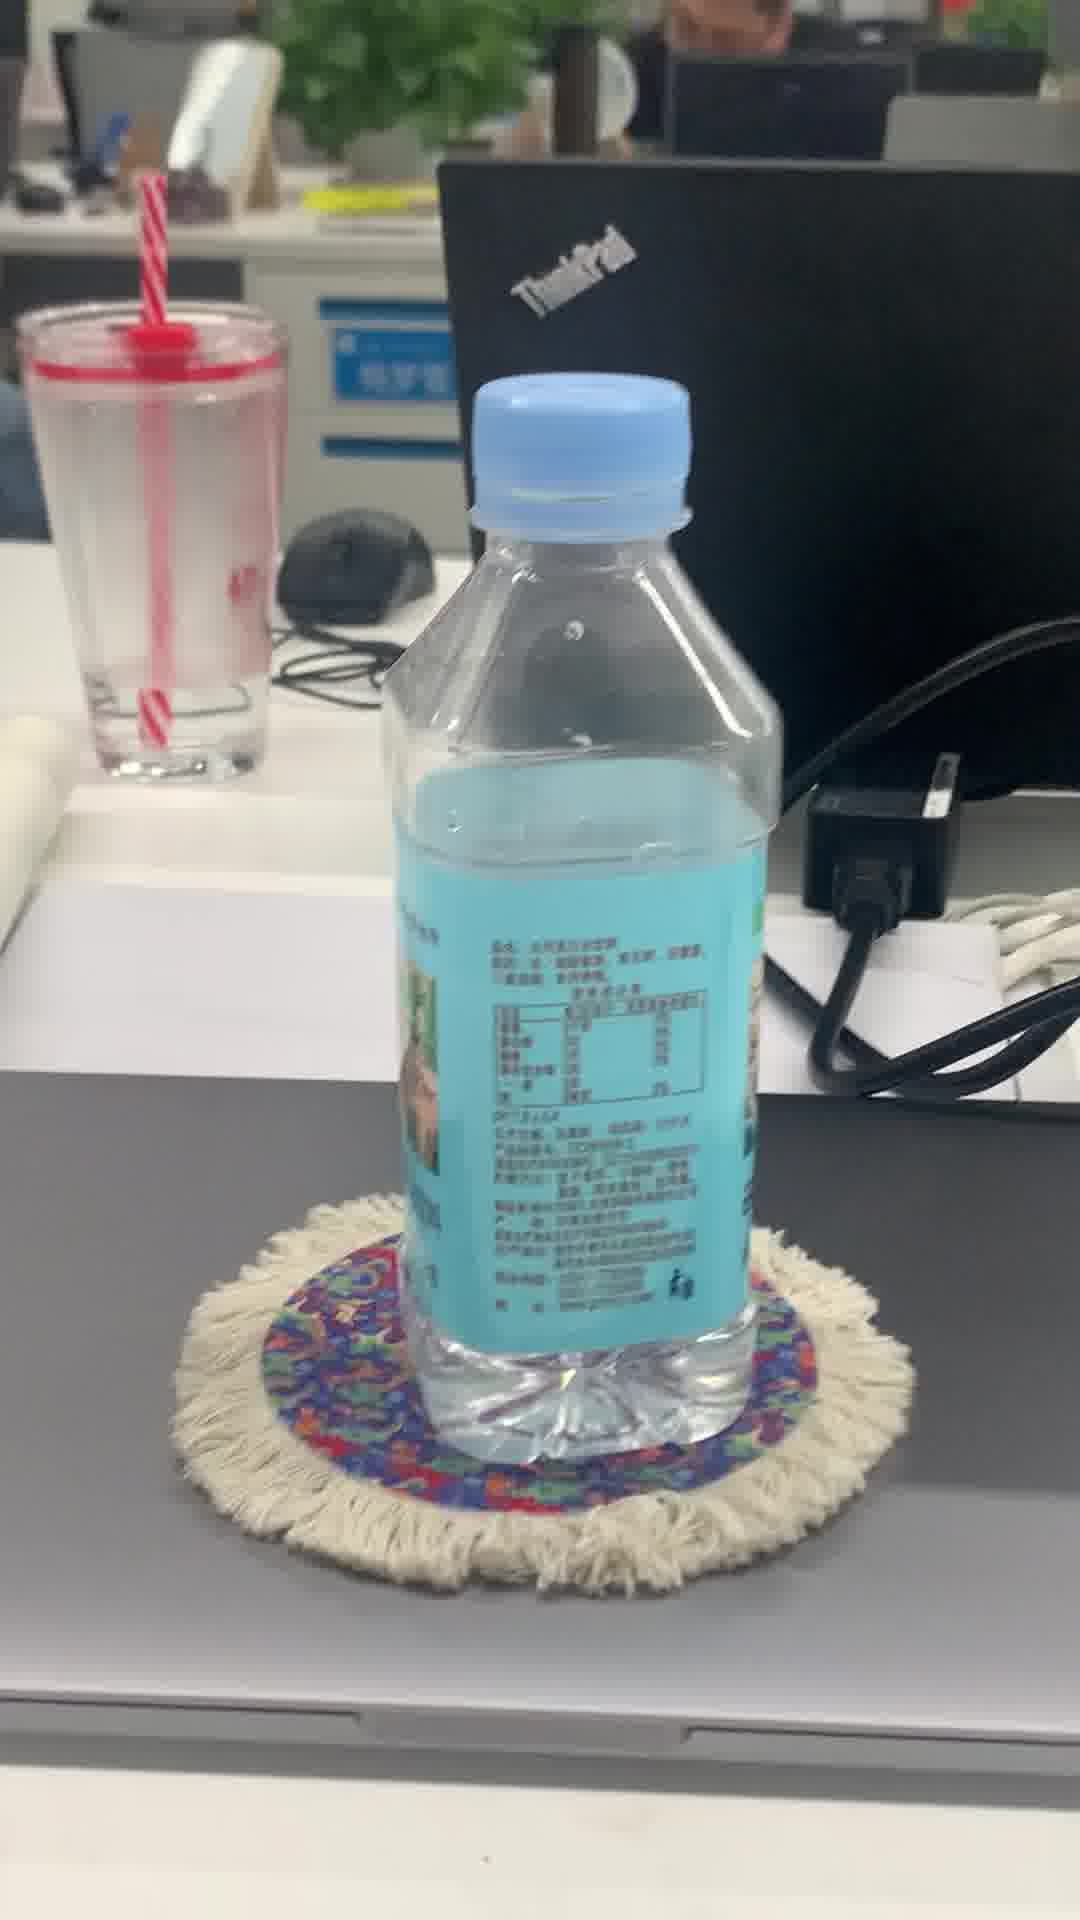水瓶: (372, 363, 793, 1465)
